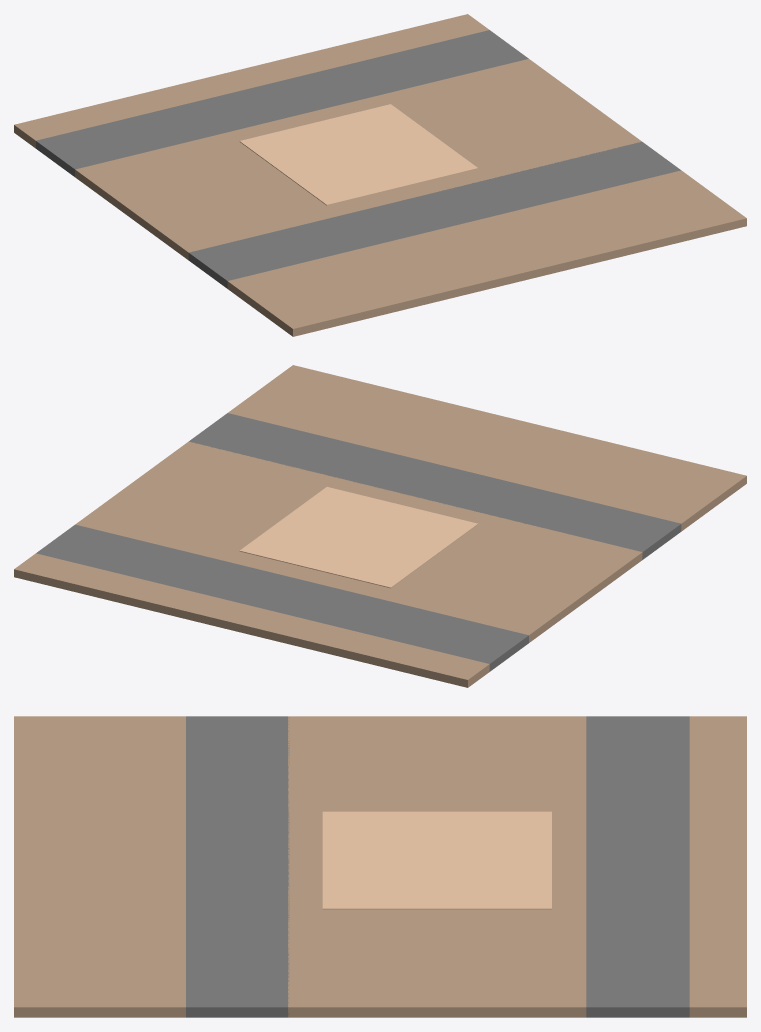
The model's file is Nguyễn Huệ.glb.
3 views of the same model, one above another, from view 1: azimuth 30°, elevation 25°; view 2: azimuth 150°, elevation 25°; view 3: azimuth 270°, elevation 25° (orthographic). The views are drawn at different scales.
Visible parts, largest first — view 1: Cube.001, Cube.004, Cube.002, Cube.003, Cube, Cube.005; view 2: Cube.001, Cube.004, Cube.002, Cube.003, Cube.005, Cube; view 3: Cube.001, Cube.004, Cube.002, Cube.003, Cube, Cube.005.
Part boxes in pixels (box(x1,y1,x2,y2)): Cube.001: box(75, 59, 642, 260); Cube.004: box(227, 170, 746, 336); Cube.002: box(36, 30, 528, 176); Cube.003: box(188, 141, 680, 288); Cube: box(239, 104, 478, 205); Cube.005: box(14, 14, 489, 148); Cube.001: box(75, 441, 642, 642); Cube.004: box(228, 365, 746, 531); Cube.002: box(36, 524, 528, 671); Cube.003: box(189, 413, 681, 559); Cube.005: box(14, 553, 489, 687); Cube: box(239, 487, 477, 588); Cube.001: box(288, 716, 586, 1017); Cube.004: box(14, 716, 185, 1017); Cube.002: box(586, 716, 689, 1017); Cube.003: box(186, 716, 289, 1017); Cube: box(322, 811, 551, 909); Cube.005: box(689, 716, 746, 1017).
Size of the model in its own units: 60 by 1.15 by 63.9.
